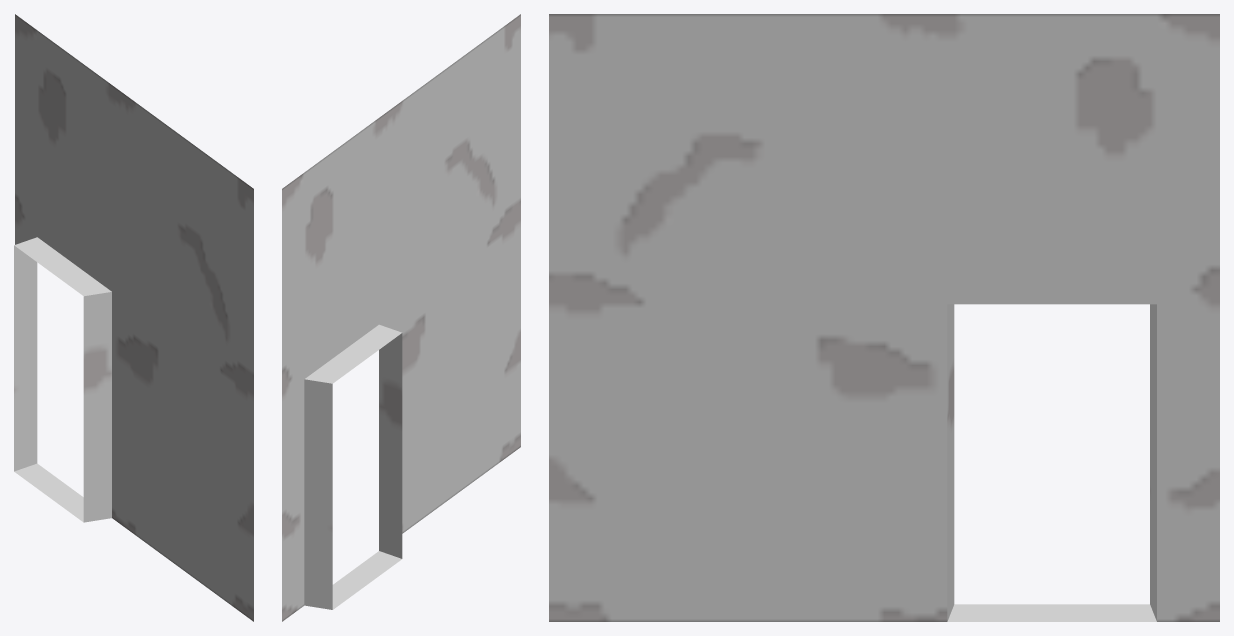
The model's file is ParedPuertaBlanca2.fbx.
The picture shows the model from 3 angles, left to right: view 1: azimuth 30°, elevation 25°; view 2: azimuth 150°, elevation 25°; view 3: azimuth 270°, elevation 25°; orthographic projection. The views are drawn at different scales.
Visible parts, largest first — view 1: Pared + puerta 2; view 2: Pared + puerta 2; view 3: Pared + puerta 2.
Boxes of the visible parts, x1,y1,x2,y2 form: Pared + puerta 2: (14,14,253,621); Pared + puerta 2: (282,14,520,621); Pared + puerta 2: (549,14,1219,621).
Size of the model in its own units: 18.75 by 300 by 300.
1 material, 1 textured.
